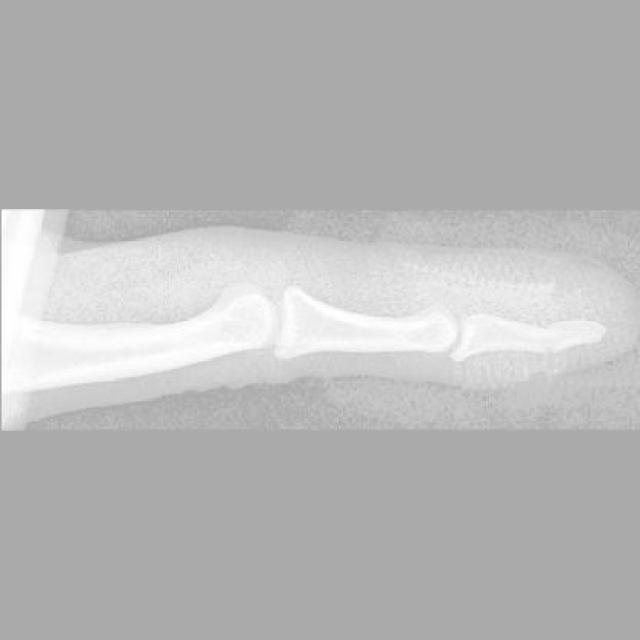Fracture: (534, 325, 570, 361)
